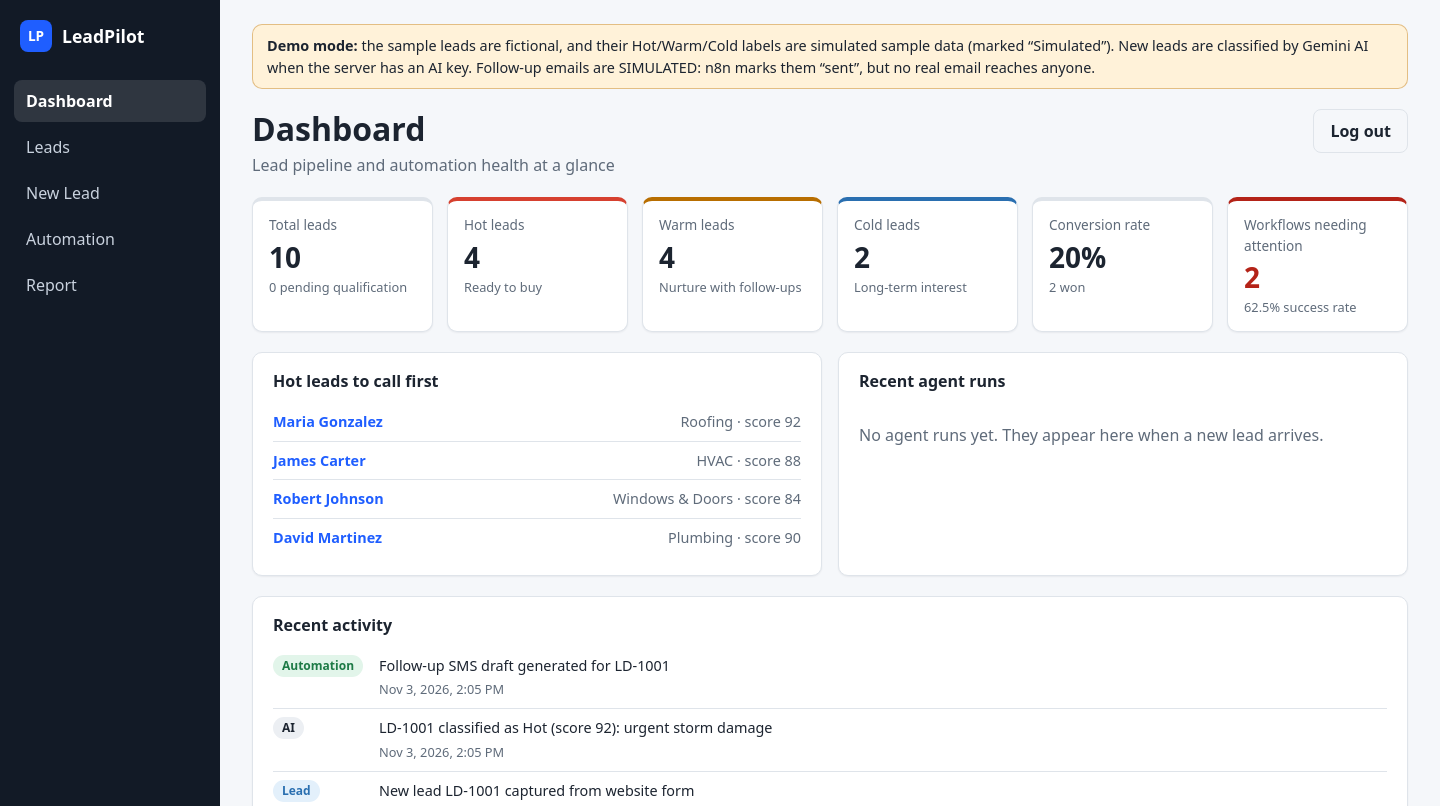
Test: operational report › shows the key numbers, plainly labelled
Expected: the heading "Hot leads to call first" is shown, [273,370,438,392]
Click the button "Report".
click(110, 285)  # box [14,264,206,306]
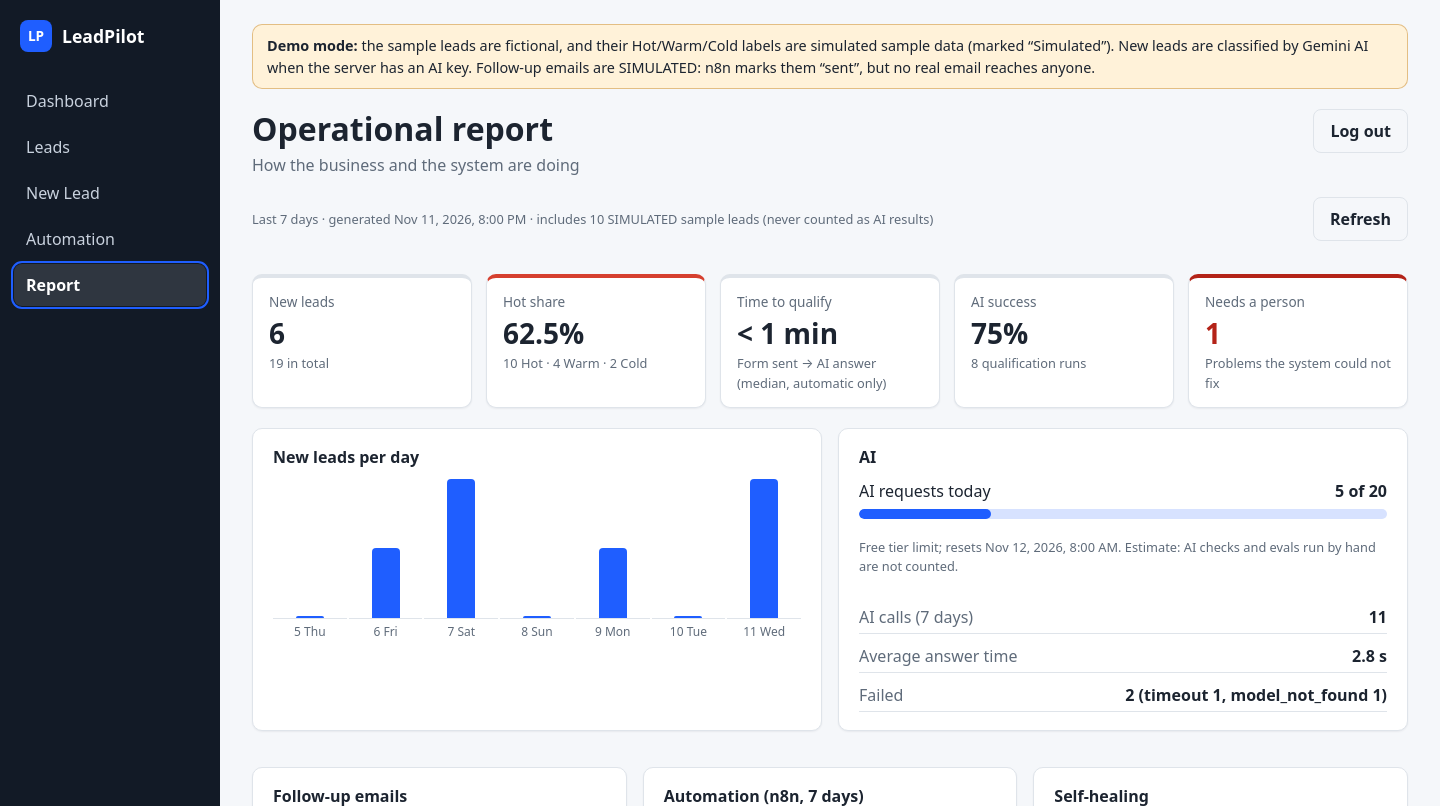
Result: the element named "Key numbers" is shown at [252,274,1408,408]
Result: the text "New leads" shows "6" at [269,314,285,352]
Result: the text "Hot share" shows "62.5%" at [503,314,584,352]
